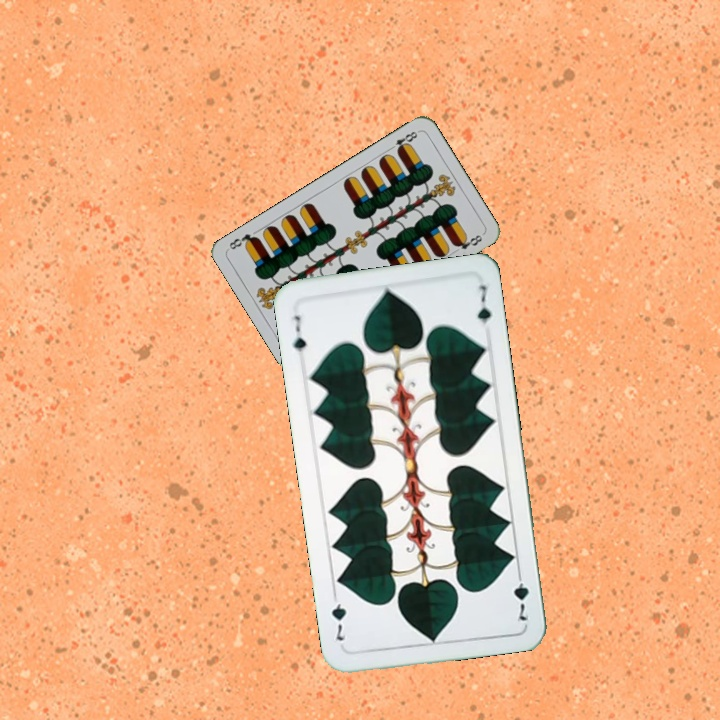E8: (385, 127, 422, 155)
G7: (509, 566, 531, 624), (289, 311, 309, 355)
